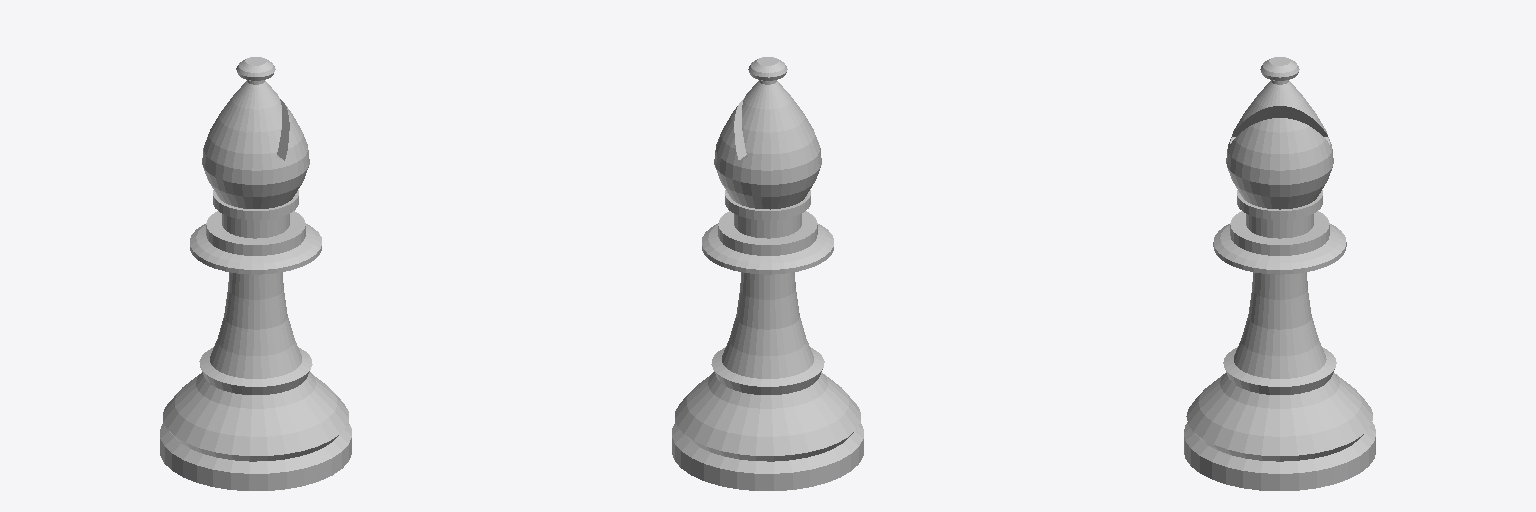
Rendered from bishop.obj.
3 renders of one model, left to right at view 1: azimuth 30°, elevation 25°; view 2: azimuth 150°, elevation 25°; view 3: azimuth 270°, elevation 25°, orthographic.
Parts seen in each view (by area): view 1: bishop.002_Cylinder.007; view 2: bishop.002_Cylinder.007; view 3: bishop.002_Cylinder.007.
Part boxes in pixels (x1,y1,x2,y2): bishop.002_Cylinder.007: (160, 57, 351, 490); bishop.002_Cylinder.007: (672, 57, 863, 490); bishop.002_Cylinder.007: (1184, 57, 1375, 490).
Bounding box in the file's own units: 1.12 × 2.51 × 1.12.